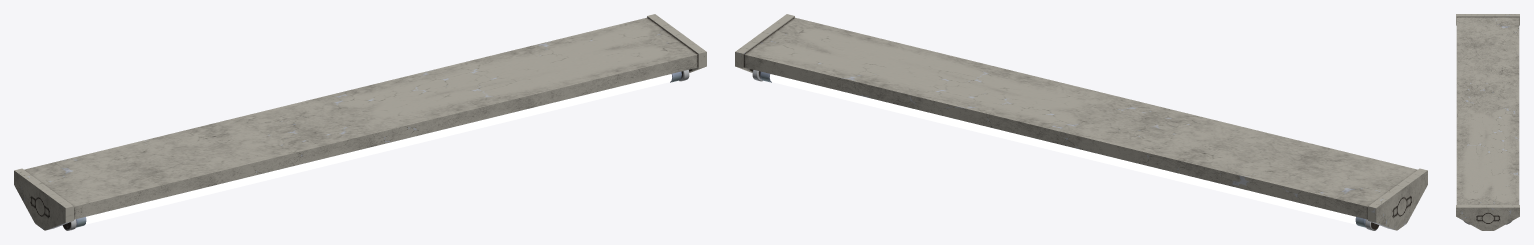
File: ceiling_lamp-10mb.glb
The picture shows the model from 3 angles, left to right: view 1: azimuth 30°, elevation 25°; view 2: azimuth 150°, elevation 25°; view 3: azimuth 270°, elevation 25°; orthographic projection. The views are drawn at different scales.
Visible parts, largest first — view 1: Cube, Symmetry_1; view 2: Cube, Symmetry_1; view 3: Cube.
Boxes of the visible parts, left/top/right/bottom form: Cube: left=14, top=14, right=706, bottom=230; Symmetry_1: left=76, top=71, right=681, bottom=227; Cube: left=735, top=14, right=1427, bottom=230; Symmetry_1: left=760, top=71, right=1365, bottom=227; Cube: left=1456, top=14, right=1519, bottom=230.
Size of the model in its own units: 1.5 by 0.0848 by 0.2096.
Materials: 1 (1 with a texture image).
